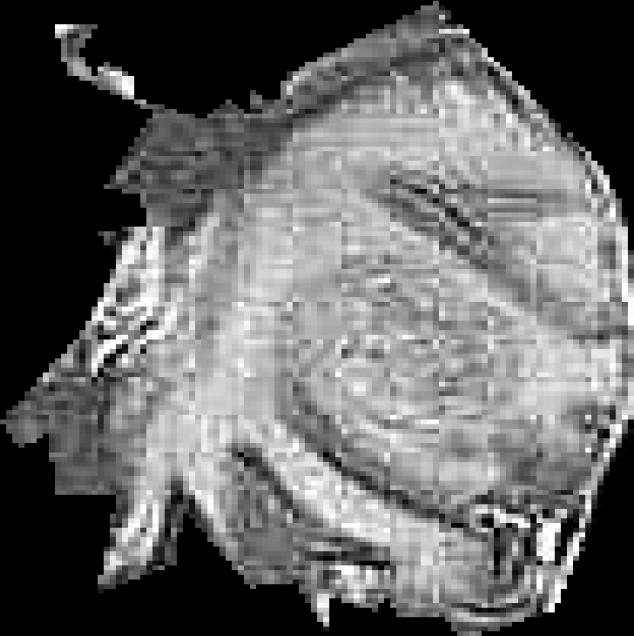tumor_moderate_chance: (0, 1, 634, 636)
